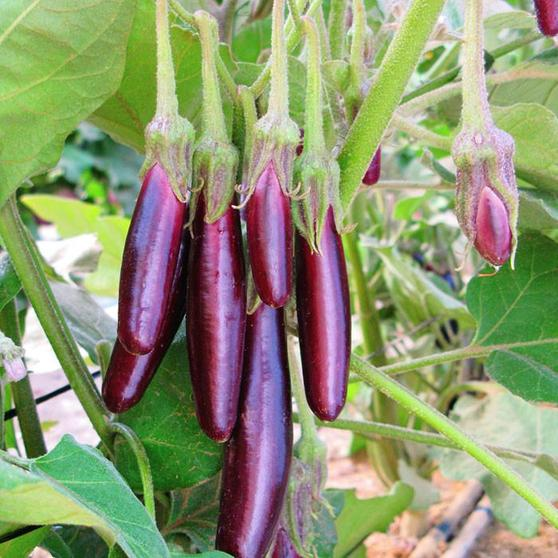eggplant: (189, 142, 245, 439), (296, 152, 354, 421), (121, 116, 186, 355), (242, 112, 298, 307)
